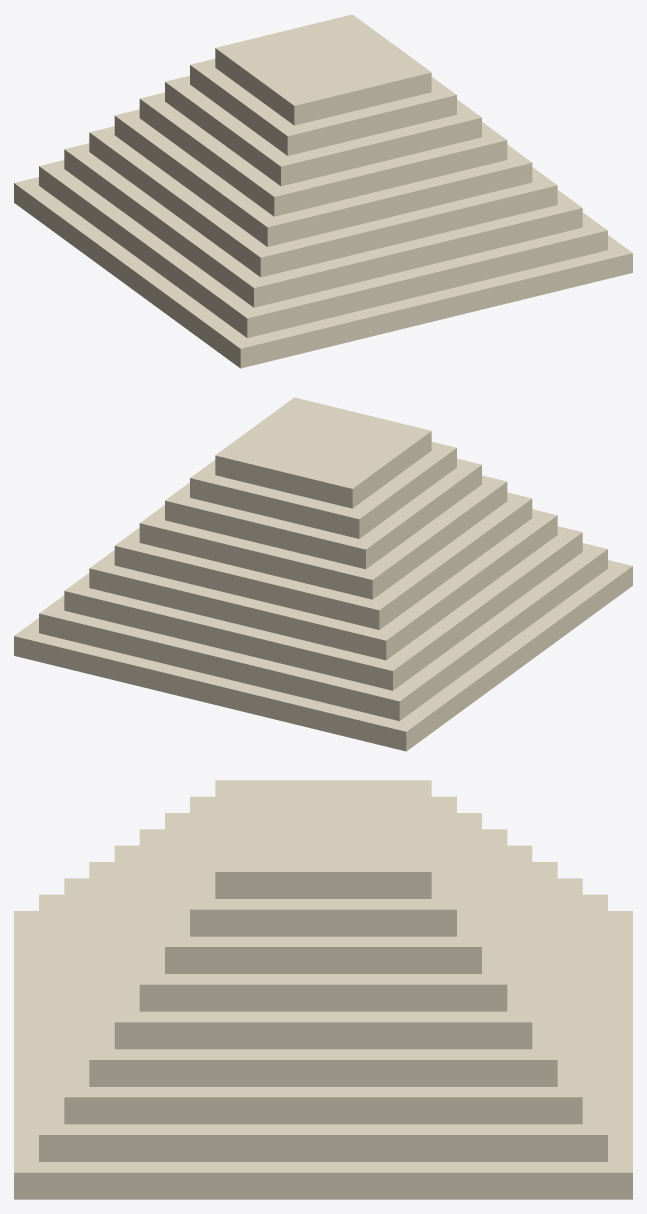
File: place-chichen-itza.glb
3 renders of one model, top to bottom at view 1: azimuth 30°, elevation 25°; view 2: azimuth 150°, elevation 25°; view 3: azimuth 270°, elevation 25°, orthographic. The views are drawn at different scales.
Parts seen in each view (by area): view 1: place-chichen-itza; view 2: place-chichen-itza; view 3: place-chichen-itza.
Part boxes in pixels (box(x1,y1,x2,y2)): place-chichen-itza: box(14, 14, 632, 368); place-chichen-itza: box(14, 397, 632, 751); place-chichen-itza: box(14, 780, 632, 1199).
Bounding box in the file's own units: 55.5 × 24 × 55.5.
